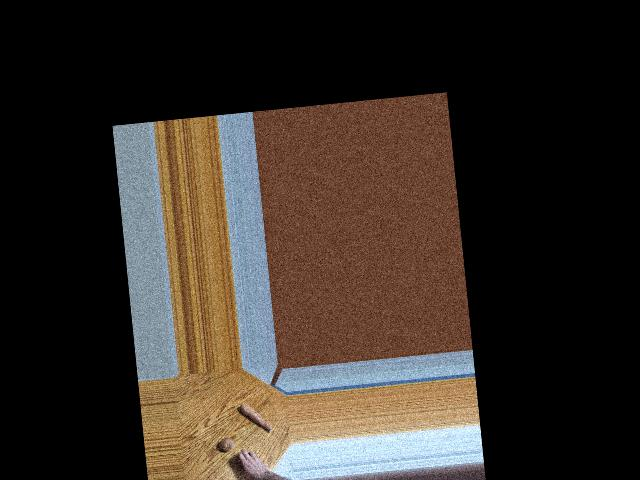onion: (233, 454, 247, 469)
